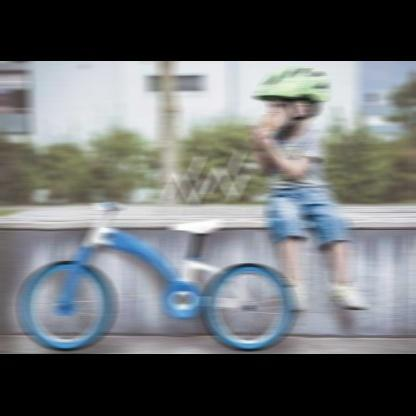Bicycle: (3, 181, 324, 354)
